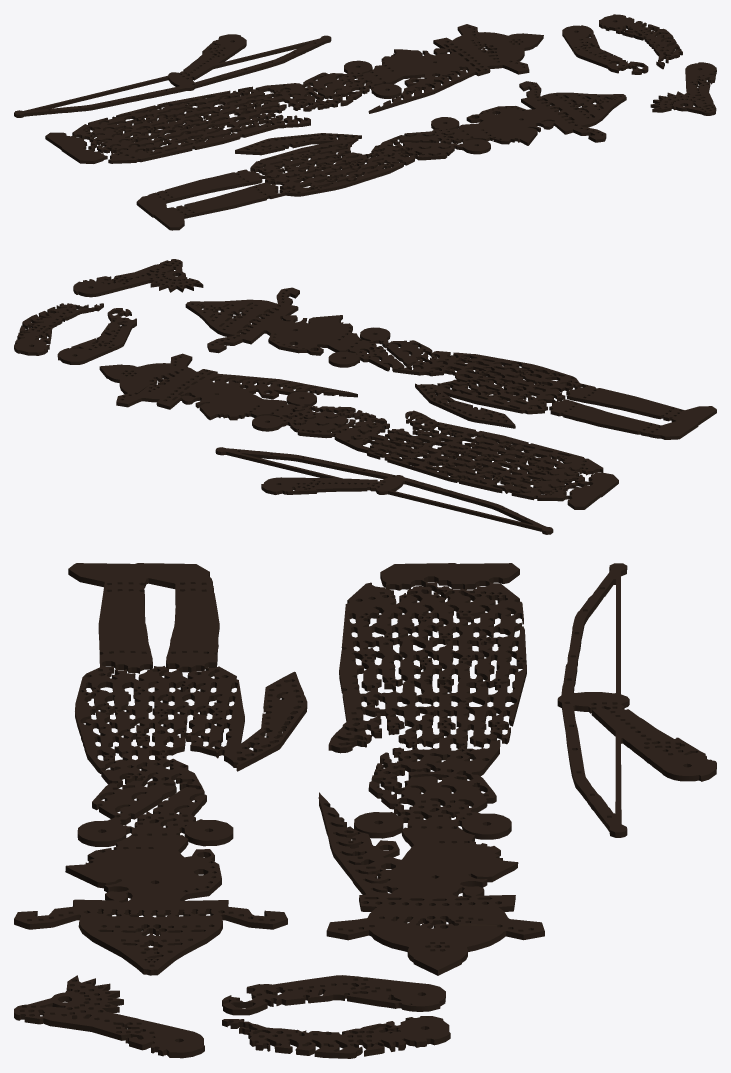
File: ram-sita-lo.glb
The picture shows the model from 3 angles, top to bottom: view 1: azimuth 30°, elevation 25°; view 2: azimuth 150°, elevation 25°; view 3: azimuth 270°, elevation 25°; orthographic projection. The views are drawn at different scales.
Visible parts, largest first — view 1: hero_object_lo; view 2: hero_object_lo; view 3: hero_object_lo.
Part boxes in pixels (x1=…): hero_object_lo: x1=14, y1=14, x2=716, y2=230; hero_object_lo: x1=14, y1=259, x2=716, y2=534; hero_object_lo: x1=14, y1=563, x2=716, y2=1058.
Size of the model in its own units: 0.301 by 0.0016 by 0.1824.
